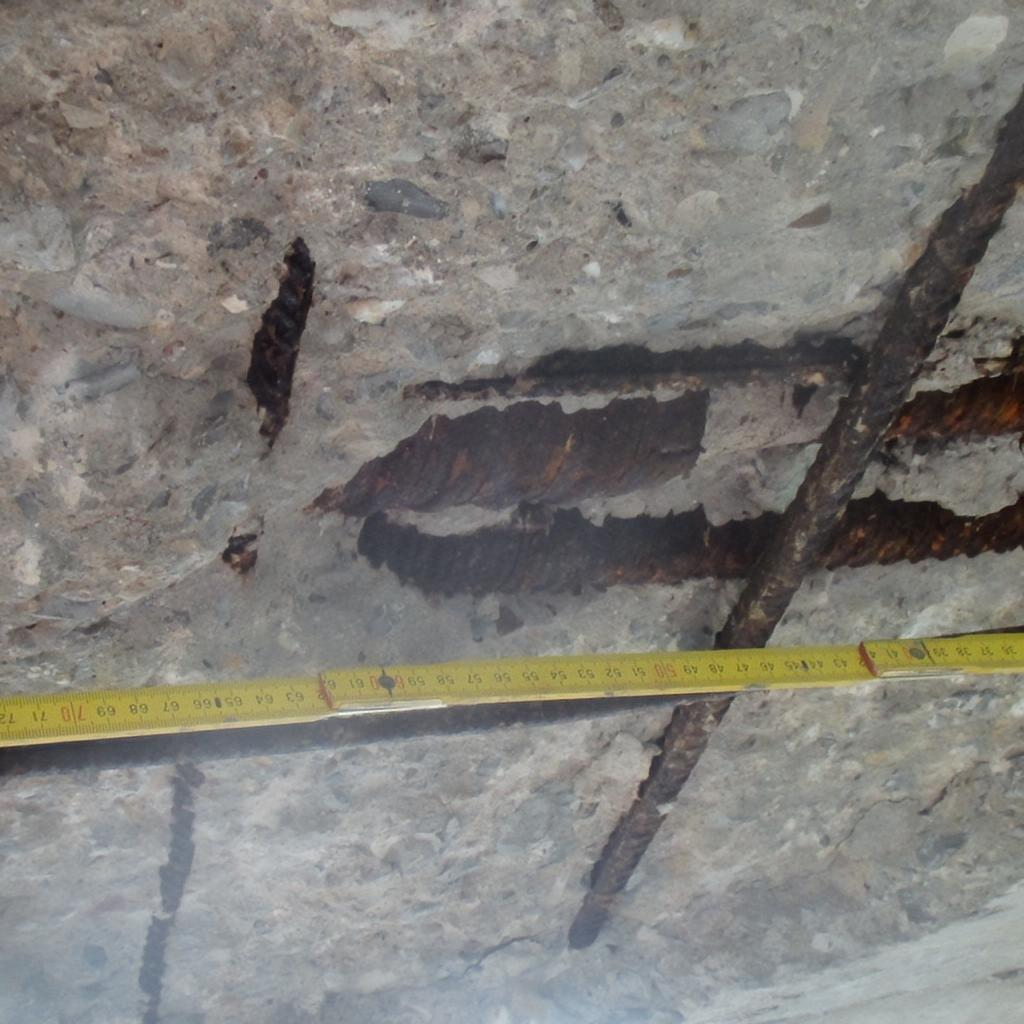exposed_rebar: (358, 94, 1024, 648), (1, 701, 660, 1023), (312, 390, 708, 516), (570, 700, 728, 947), (246, 238, 316, 447)
spalling: (0, 0, 1024, 1023)
